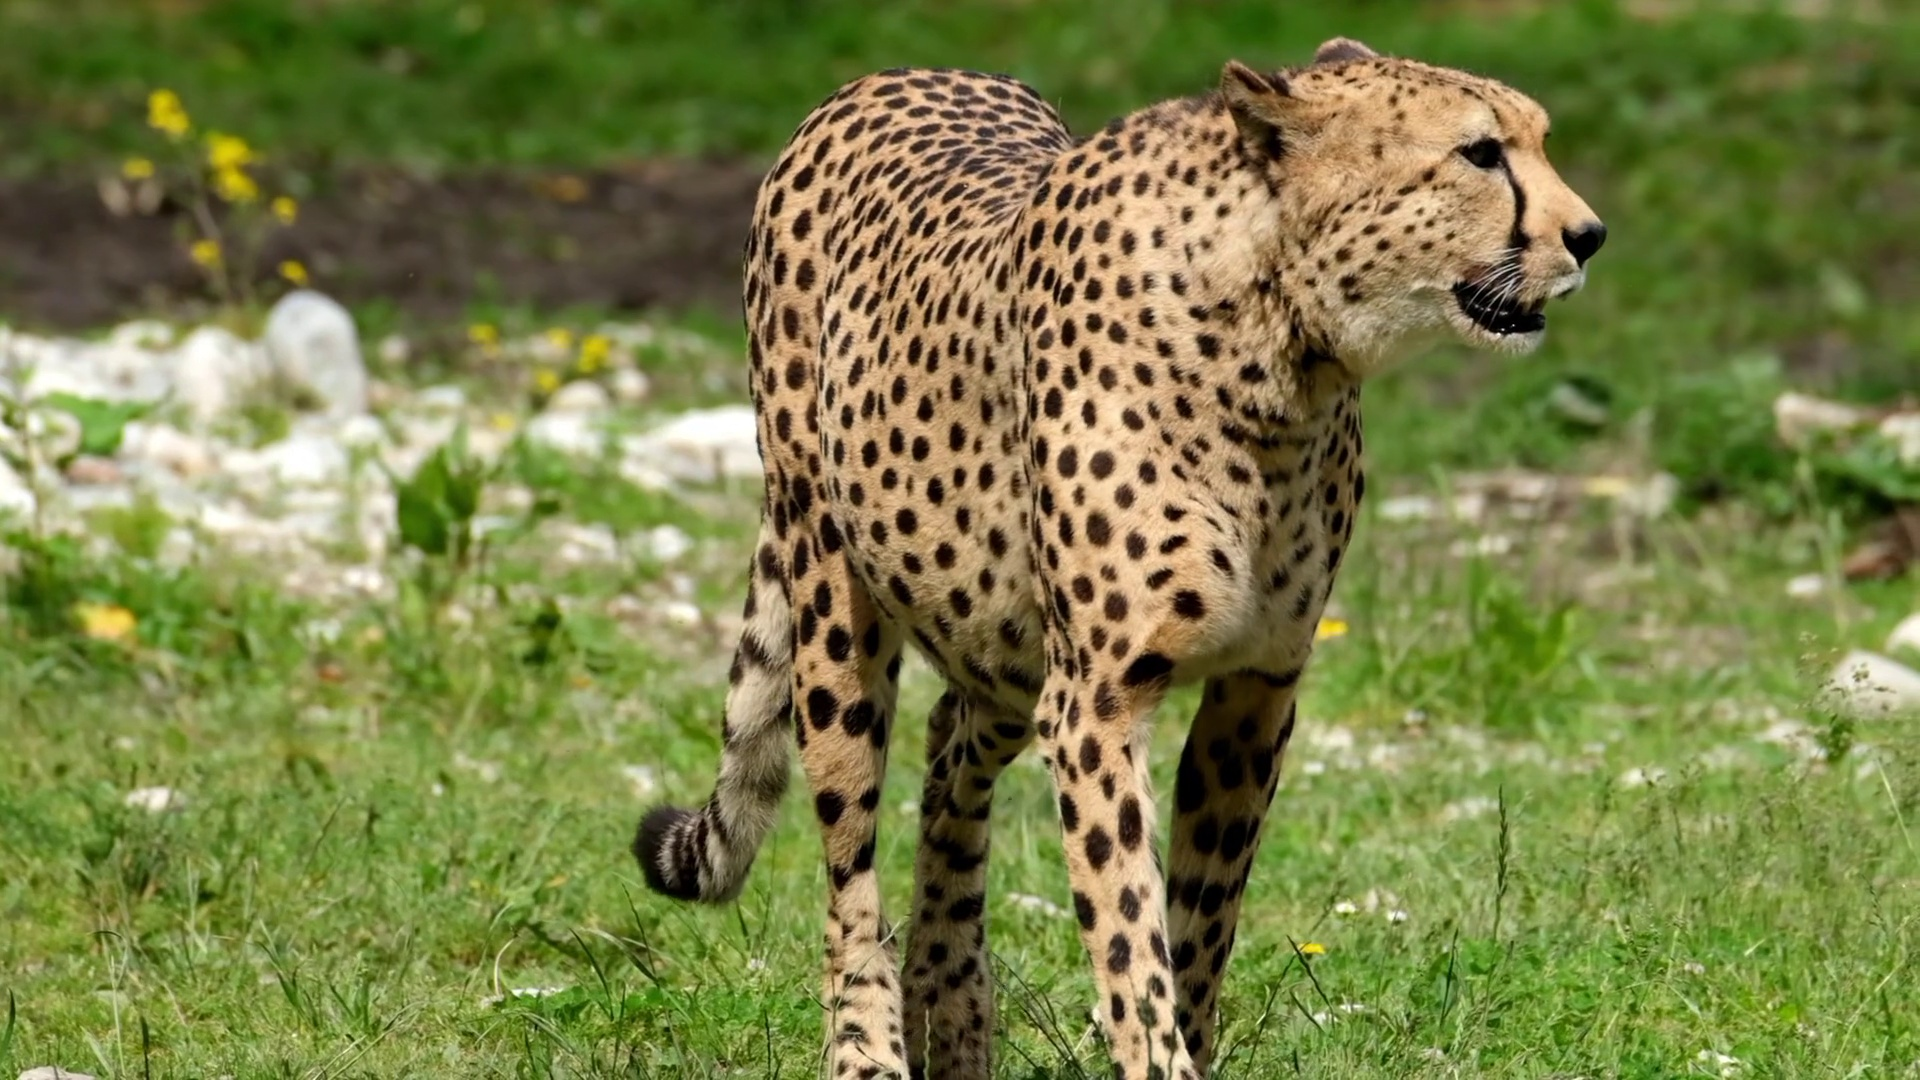Cheetah: (629, 30, 1611, 1080)
